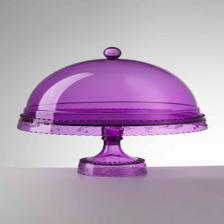purple: (17, 47, 208, 177)
